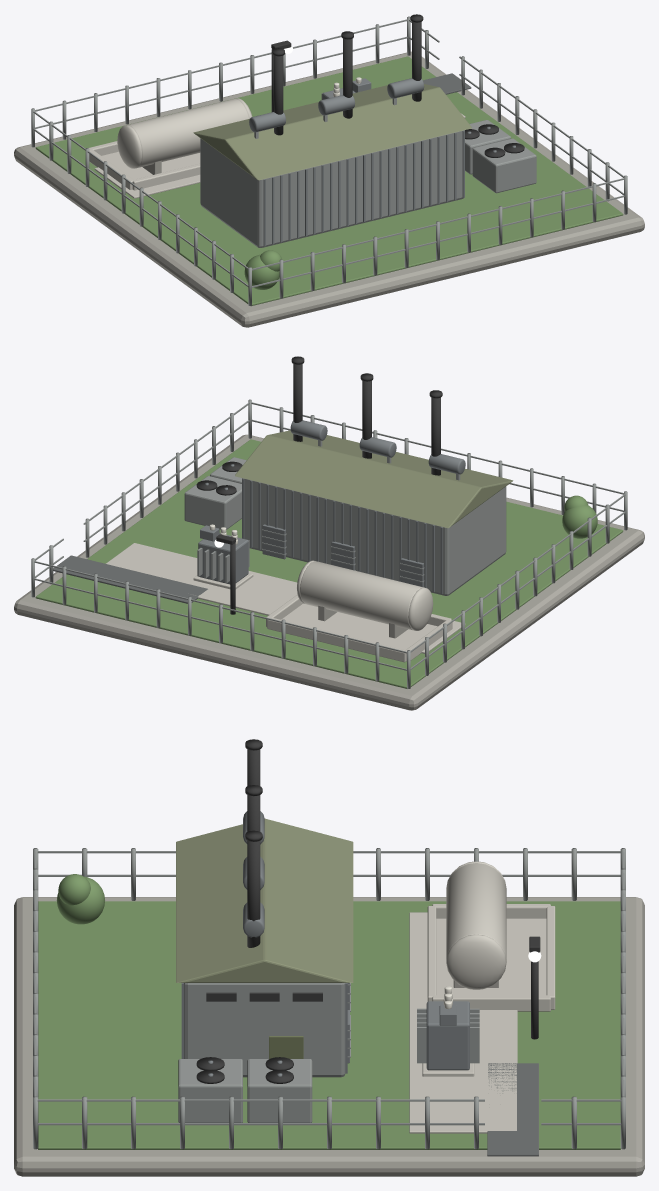
File: power_3.glb
3 renders of one model, top to bottom at view 1: azimuth 30°, elevation 25°; view 2: azimuth 150°, elevation 25°; view 3: azimuth 270°, elevation 25°, orthographic. The views are drawn at different scales.
Visible parts, largest first — view 1: Cube.001, Cube, Cube.004, prism, Cylinder.017, Cube.080, Cube.082, Cube.003, Cube.103, Sphere, Cube.108, Cube.081 (+14 smaller); view 2: Cube.001, Cube, Cube.004, prism, Cube.003, Cylinder.017, Cube.002, Cube.082, Cube.081, Cube.083, Cube.089, Sphere.003 (+15 smaller); view 3: Cube.001, Cube, prism, Cube.003, Cube.004, Cylinder.017, Cube.081, Cube.002, Cube.080, Cube.089, Sphere.001, Cube.082 (+13 smaller).
Part boxes in pixels (x1,y1,x2,y2): Cube.001: (35, 56, 623, 306); Cube: (14, 51, 644, 327); Cube.004: (200, 130, 464, 247); prism: (193, 84, 471, 180); Cylinder.017: (127, 99, 249, 167); Cube.080: (472, 138, 536, 193); Cube.082: (102, 151, 200, 179); Cube.003: (94, 113, 465, 198); Cube.103: (252, 195, 624, 287); Sphere: (117, 125, 141, 168); Cube.108: (252, 178, 624, 270); Cube.081: (465, 120, 510, 174); Cube.001: (35, 439, 623, 688); Cube: (14, 434, 644, 710); Cube.004: (242, 478, 506, 595); prism: (235, 430, 513, 528); Cube.003: (106, 543, 465, 653); Cylinder.017: (300, 561, 423, 630); Cube.002: (53, 555, 207, 603); Cube.082: (281, 604, 436, 649); Cube.081: (184, 476, 241, 529); Cube.083: (267, 617, 406, 662); Cube.089: (198, 533, 248, 584); Sphere.003: (562, 505, 597, 538); Cube.001: (38, 901, 620, 1149); Cube: (14, 897, 644, 1176); prism: (176, 818, 353, 982); Cube.003: (409, 912, 517, 1133); Cube.004: (184, 983, 345, 1077); Cylinder.017: (446, 863, 506, 960); Cube.081: (247, 1059, 312, 1122); Cube.002: (487, 1063, 538, 1156); Cube.080: (178, 1059, 242, 1122); Cube.089: (426, 1001, 469, 1070); Sphere.001: (446, 934, 506, 989); Cube.082: (439, 918, 546, 995).
Bounding box in the file's own units: 2.92 × 1.28 × 2.92.
